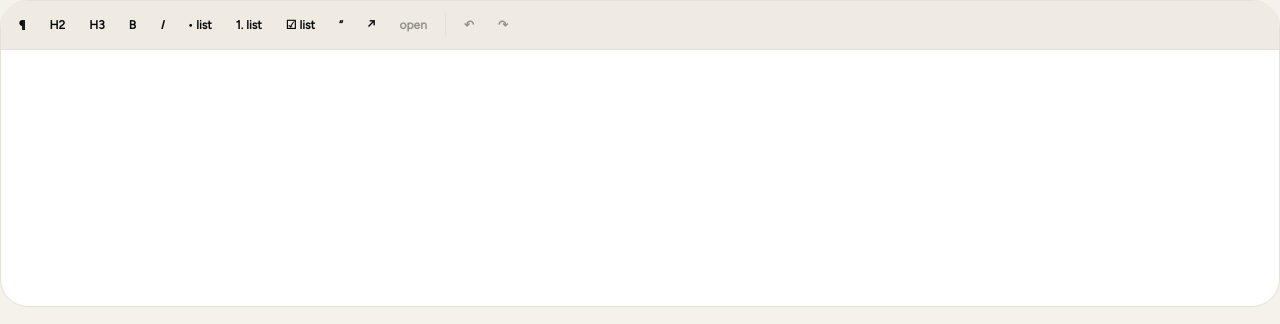
Test: RichTextEditor › closes the slash menu on Escape without losing editor focus
Press the mouse on the field named "Note content": (640, 178) 1,50 -> 1279,306
Press / in the field named "Note content"
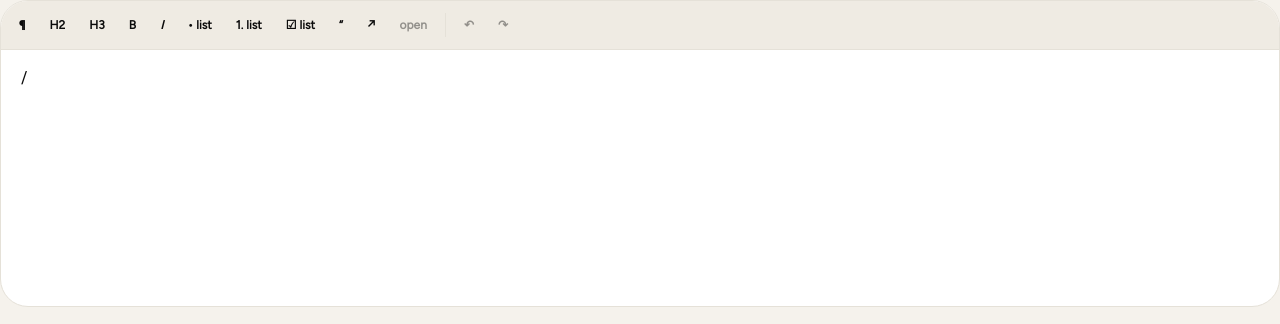
Clear the field named "Note content": (24, 78) 21,68 -> 27,87
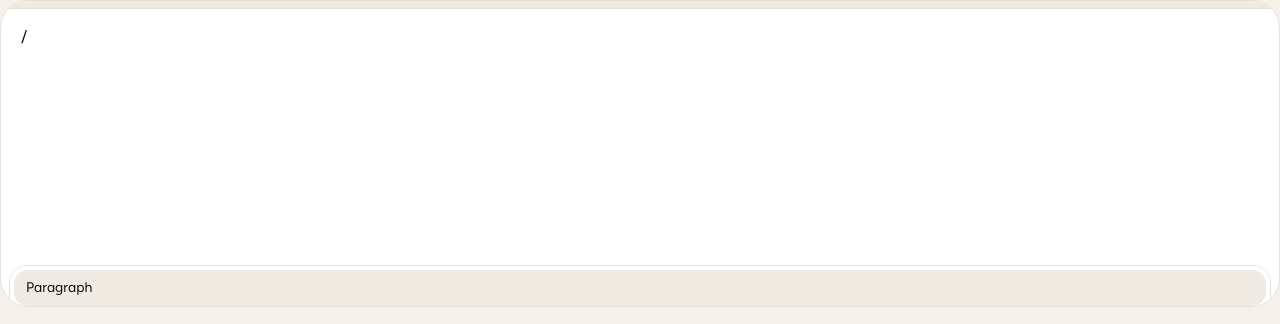
Press Escape in the field named "Note content", box 21,27 -> 27,46
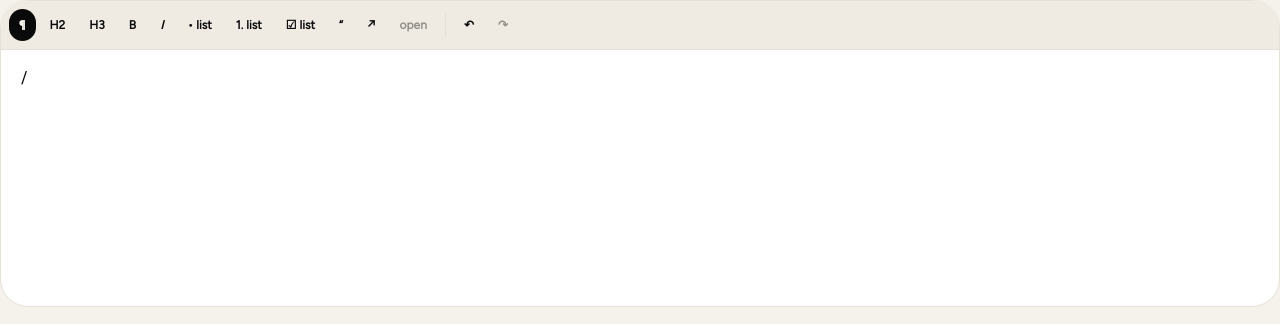
Now the field named "Note content" is collapsed, box 21,68 -> 27,87
